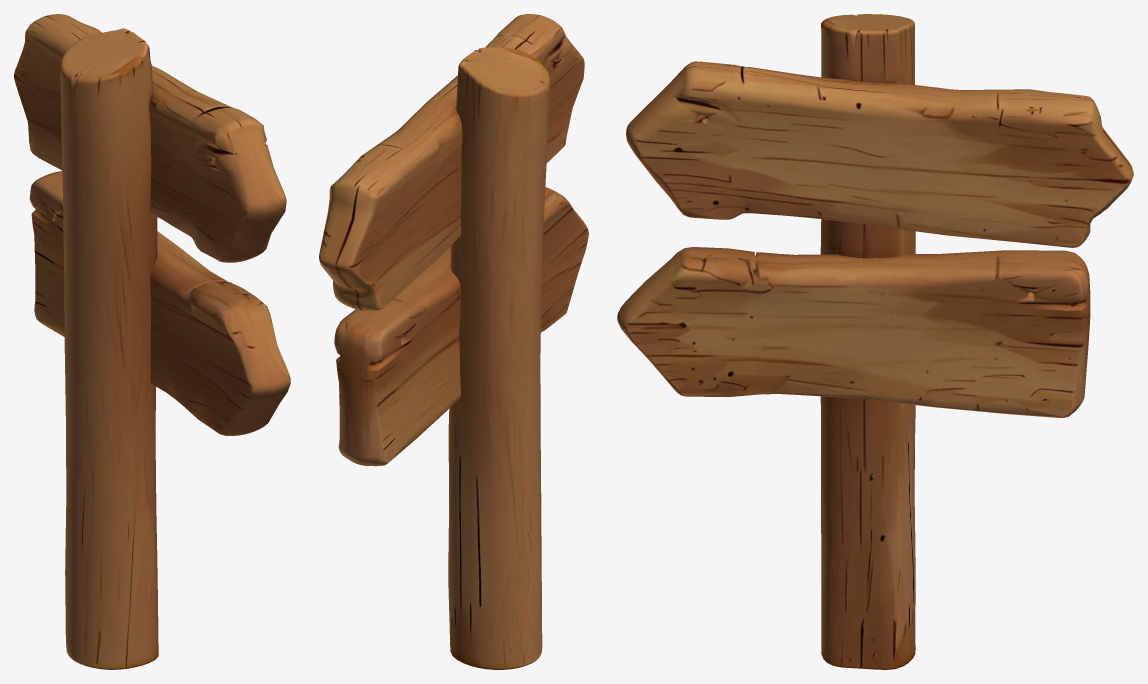
File: q3d-41-fork.glb
The picture shows the model from 3 angles, left to right: view 1: azimuth 30°, elevation 25°; view 2: azimuth 150°, elevation 25°; view 3: azimuth 270°, elevation 25°; orthographic projection. The views are drawn at different scales.
Bounding box in the file's own units: 0.1958 × 0.9995 × 0.7378.
Materials: 1 (1 with a texture image).
